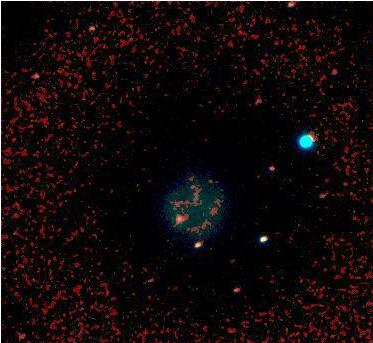star: (307, 181, 337, 211)
